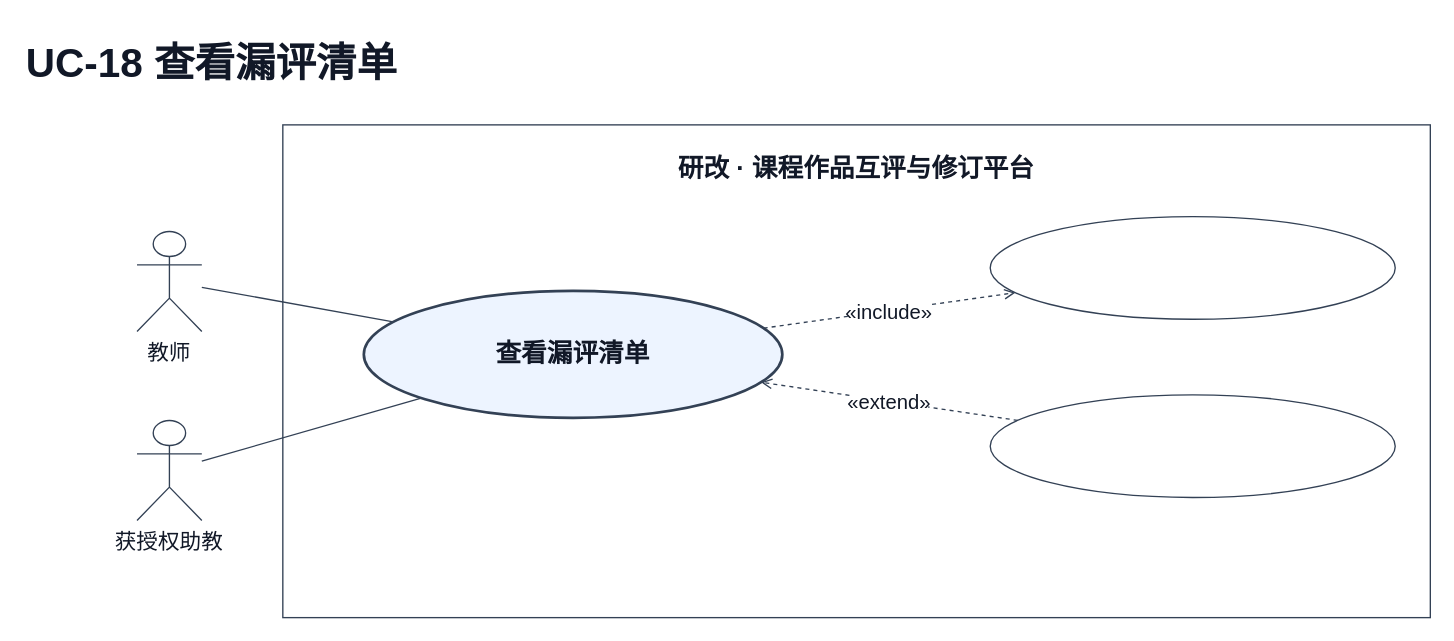
Some shapes in this 1454 by 641 pixel diagram are drawn without their labels. The shapes that lost their labels are listed below. From the top down, each one's box as (x1, y1, x2, y2) in pixels, then its label:
(989, 215, 1395, 319): 汇总有效评语数与未完成数
(989, 394, 1395, 497): 无缺评时显示空清单
